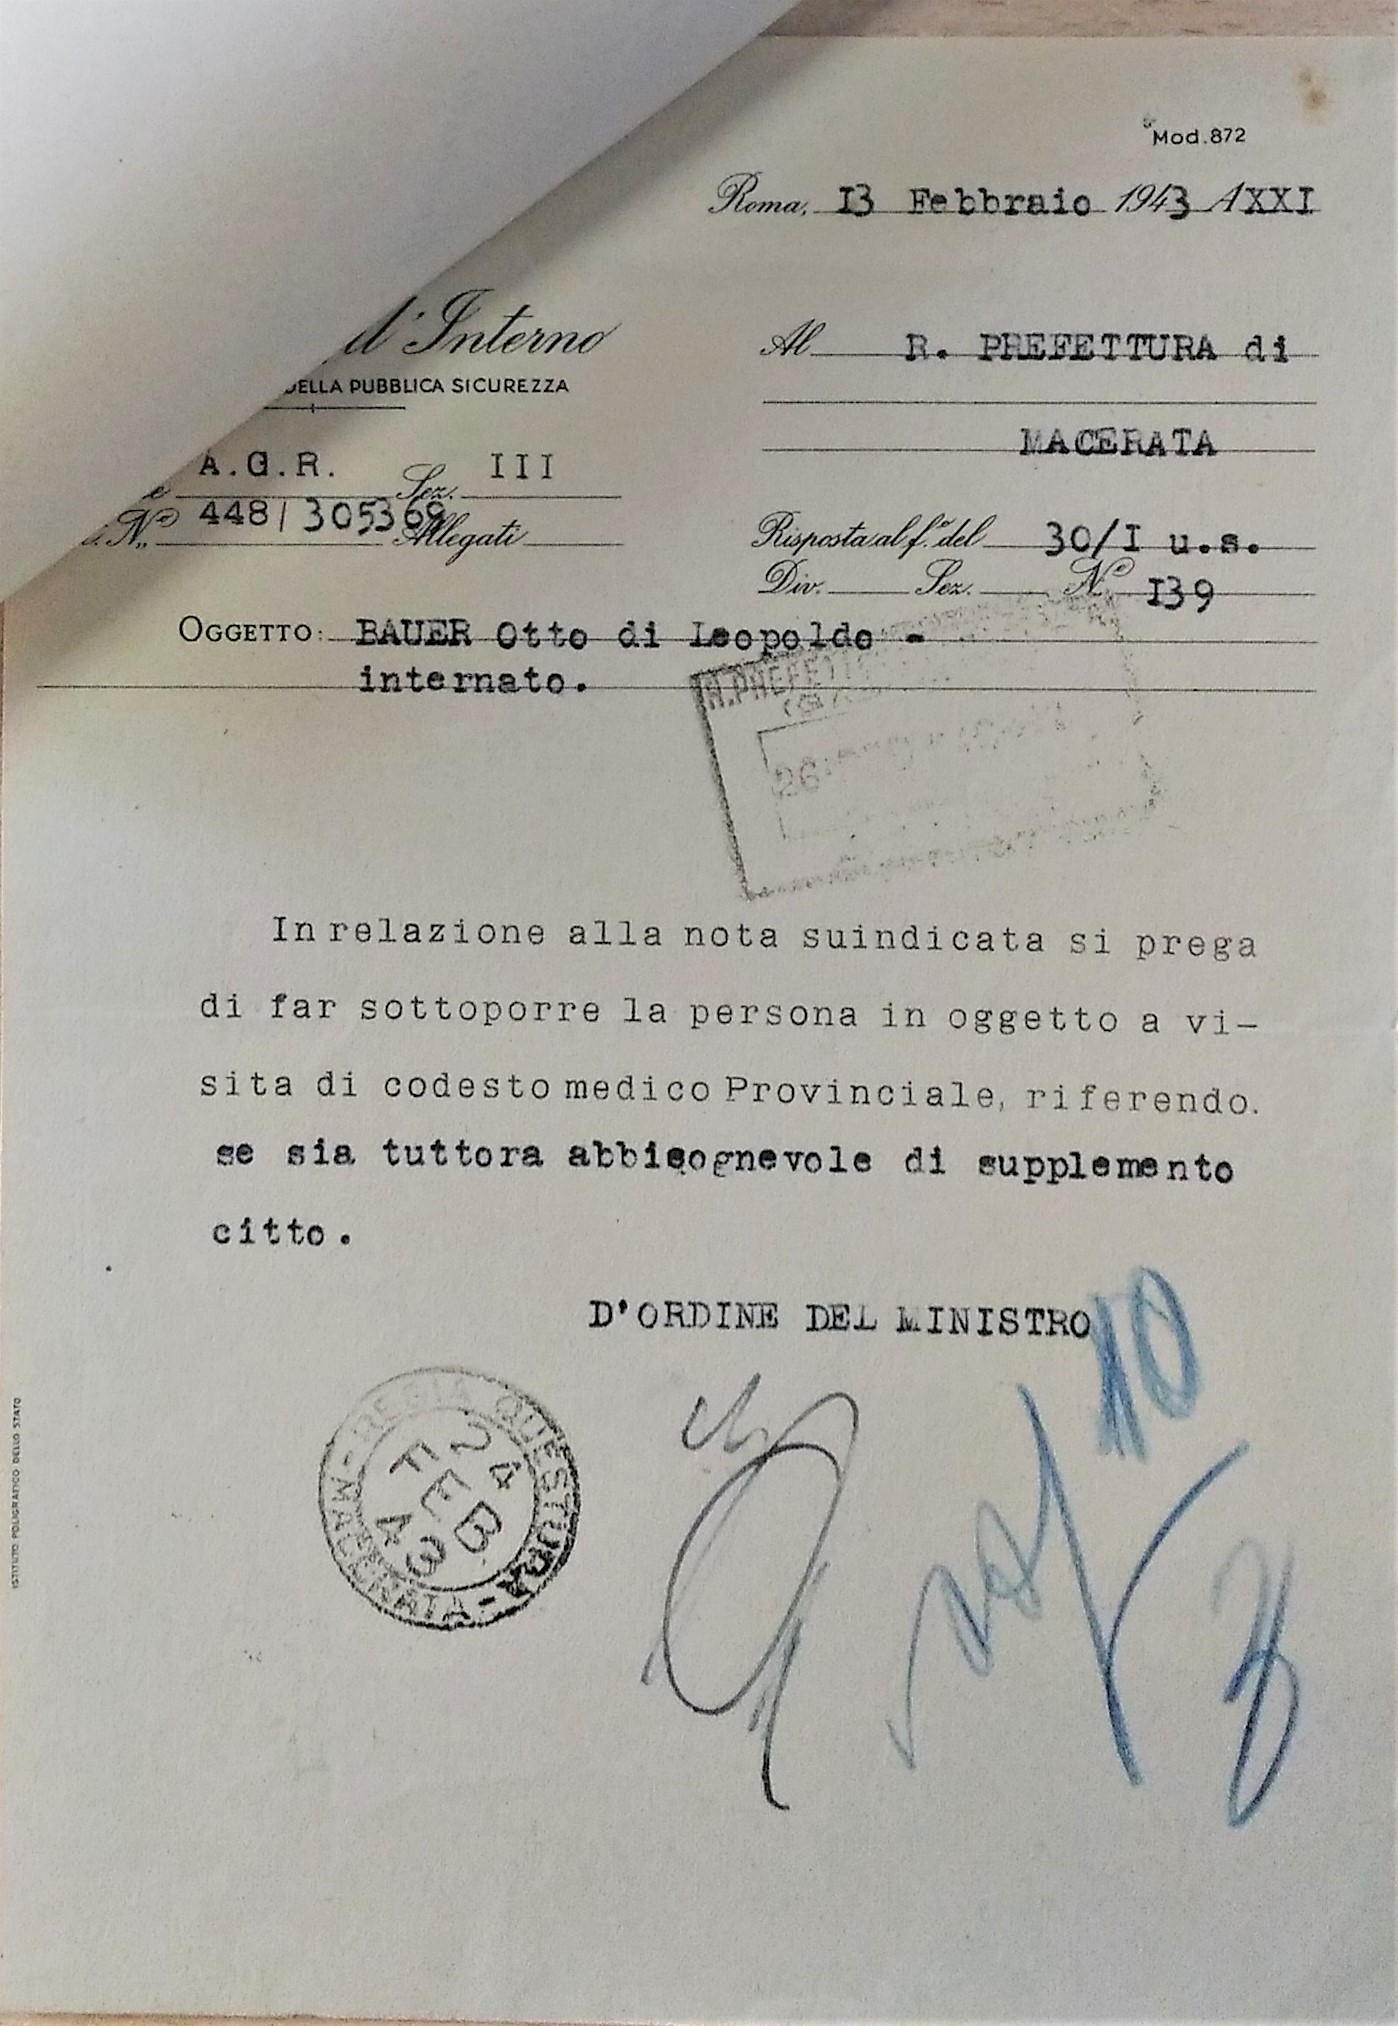stamp: (687, 576, 1156, 908), (317, 1366, 584, 1632)
